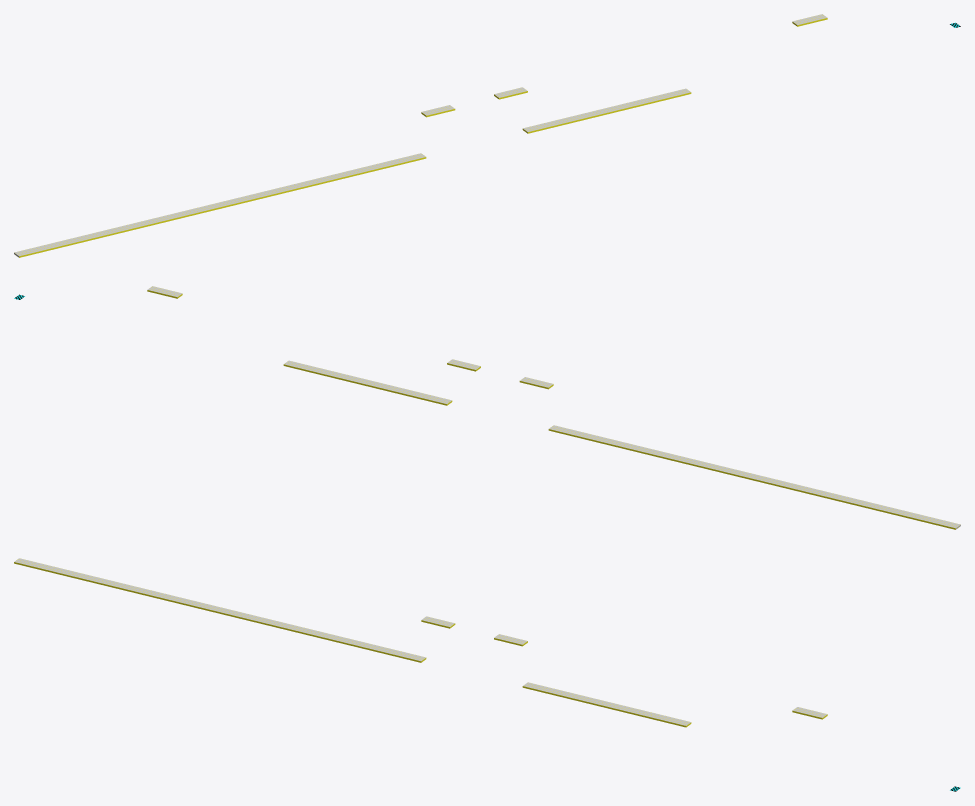
File: Roud lvl16.fbx
3 views of the same model, one above another, from view 1: azimuth 30°, elevation 25°; view 2: azimuth 150°, elevation 25°; view 3: azimuth 330°, elevation 25° (orthographic).
Parts seen in each view (by area): view 1: Roud.001, Roud.004; view 2: Roud.001, Roud.004; view 3: Roud.001, Roud.004.
Boxes of the visible parts, x1,y1,x2,y2 form: Roud.001: (14, 153, 426, 257); Roud.004: (522, 88, 691, 133); Roud.001: (548, 425, 960, 529); Roud.004: (283, 360, 452, 405); Roud.001: (14, 558, 426, 662); Roud.004: (522, 682, 691, 727).
Bounding box in the file's own units: 62190 × 2700 × 600.
